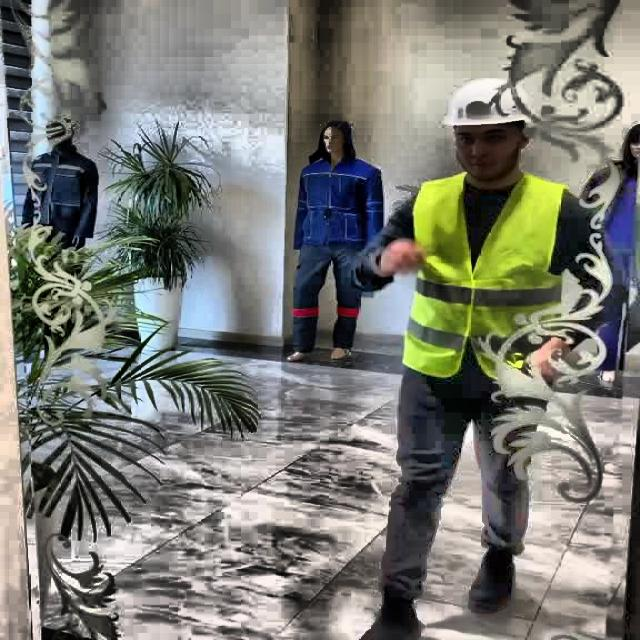safety_helmet: (442, 77, 532, 125)
safety_jacket: (399, 174, 571, 385)
